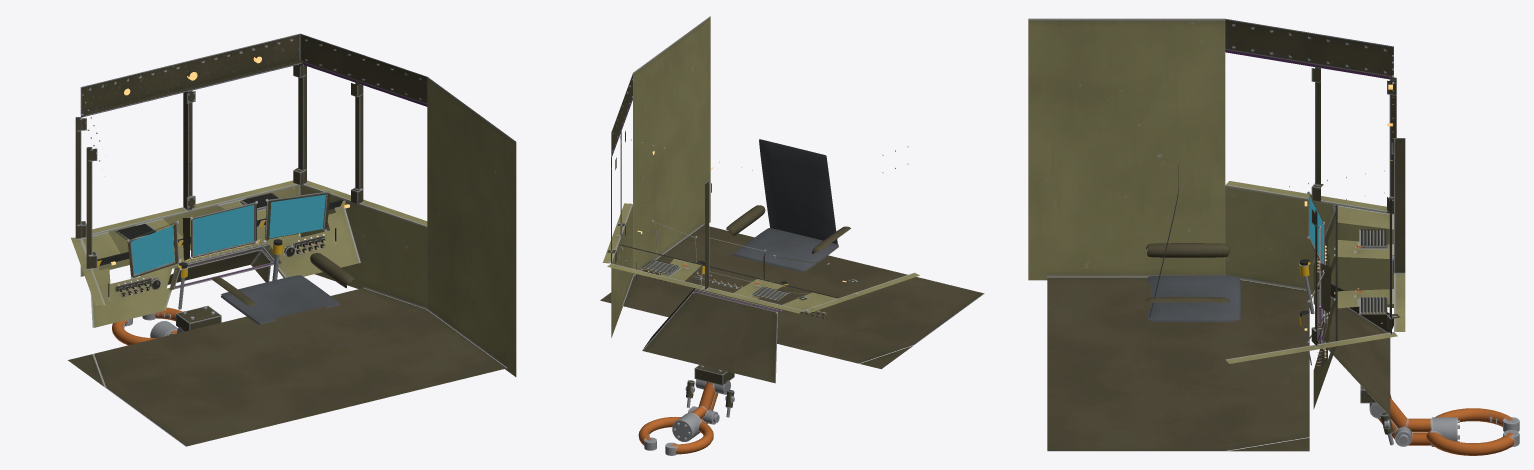
The model's file is cockpit_yuk_m.glb.
3 views of the same model, side by side, from view 1: azimuth 30°, elevation 25°; view 2: azimuth 150°, elevation 25°; view 3: azimuth 270°, elevation 25° (orthographic). The views are drawn at different scales.
Visible parts, largest first — view 1: LOD0_body, SCR_RADAR, SCR_HULL, SCR_SYS, ART_claw_root_geo, ART_claw_jaw_L_geo; view 2: LOD0_body, ART_claw_shoulder_geo, ART_claw_jaw_L_geo, ART_claw_wrist_geo, ART_claw_jaw_R_geo, ART_claw_root_geo; view 3: LOD0_body, ART_claw_jaw_R_geo, ART_claw_jaw_L_geo, ART_claw_elbow_geo, ART_claw_shoulder_geo, ART_claw_wrist_geo.
Boxes of the visible parts, left/top/right/bottom form: LOD0_body: left=68, top=33, right=516, bottom=446; SCR_RADAR: left=193, top=204, right=253, bottom=255; SCR_HULL: left=269, top=194, right=325, bottom=238; SCR_SYS: left=131, top=225, right=174, bottom=274; ART_claw_root_geo: left=176, top=306, right=221, bottom=331; ART_claw_jaw_L_geo: left=112, top=318, right=157, bottom=345; LOD0_body: left=600, top=16, right=984, bottom=383; ART_claw_shoulder_geo: left=685, top=379, right=734, bottom=410; ART_claw_jaw_L_geo: left=665, top=421, right=713, bottom=455; ART_claw_wrist_geo: left=672, top=412, right=701, bottom=441; ART_claw_jaw_R_geo: left=638, top=417, right=681, bottom=450; ART_claw_root_geo: left=694, top=365, right=734, bottom=385; LOD0_body: left=1028, top=18, right=1405, bottom=451; ART_claw_jaw_R_geo: left=1426, top=430, right=1519, bottom=455; ART_claw_jaw_L_geo: left=1435, top=408, right=1519, bottom=431; ART_claw_elbow_geo: left=1388, top=418, right=1431, bottom=446; ART_claw_shoulder_geo: left=1369, top=394, right=1407, bottom=439; ART_claw_wrist_geo: left=1431, top=417, right=1459, bottom=446.
Bounding box in the file's own units: 2.35 × 2 × 2.62.
Materials: 3 (1 with a texture image).
